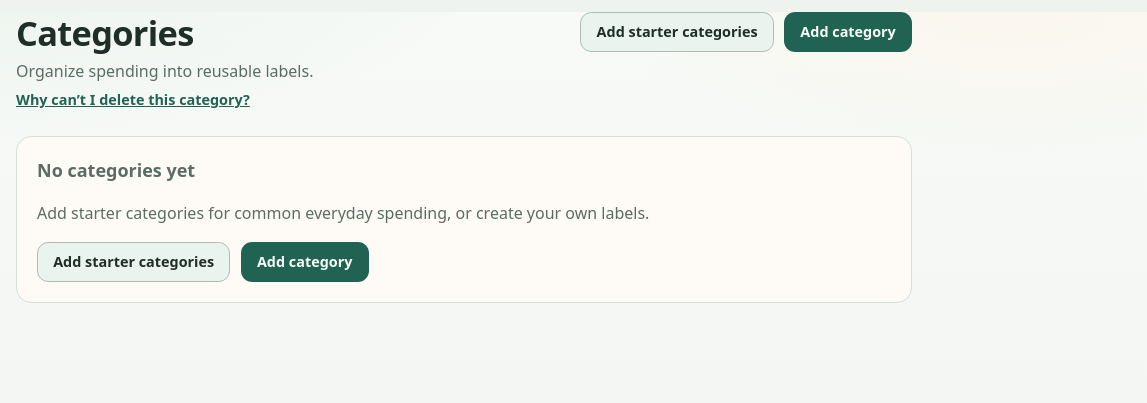
Test: CategoriesPage › adds starter categories after confirmation and refreshes the list
This screenshot has width=1147, height=403.
Expected: the text "No categories yet" is shown, top-left (37, 157), bottom-right (195, 185)
Click the 1st button "Add starter categories" at (677, 32), box top-left (580, 12), bottom-right (774, 52)
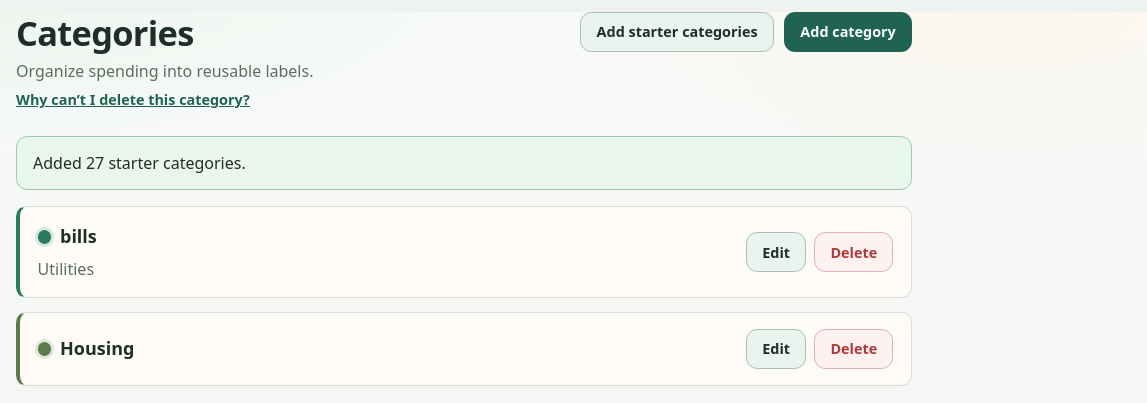
Now the heading "bills" is shown, box top-left (38, 223), bottom-right (97, 251)
Now the message shows "Added 27 starter categories", box top-left (33, 152), bottom-right (246, 174)
